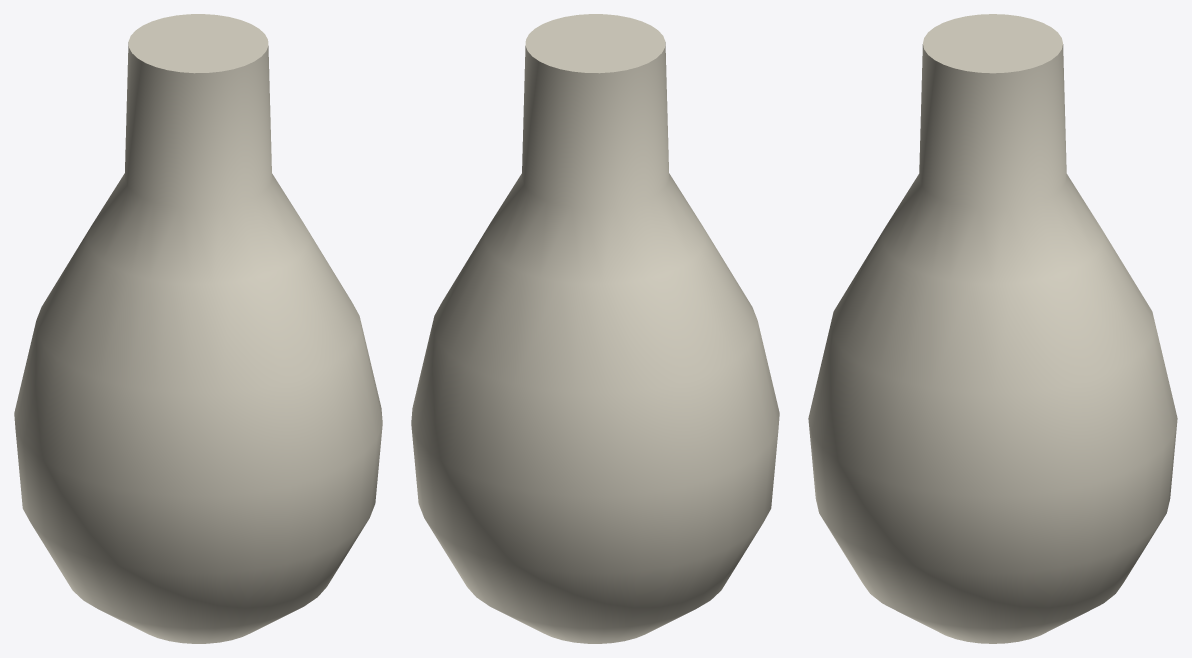
Rendered from lamp_bulb.glb.
3 views of the same model, side by side, from view 1: azimuth 30°, elevation 25°; view 2: azimuth 150°, elevation 25°; view 3: azimuth 270°, elevation 25° (orthographic).
Visible parts, largest first — view 1: lamp_bulb; view 2: lamp_bulb; view 3: lamp_bulb.
Boxes of the visible parts, x1,y1,x2,y2 form: lamp_bulb: (14,14,382,643); lamp_bulb: (411,14,779,643); lamp_bulb: (808,14,1177,643).
Bounding box in the file's own units: 0.1 × 0.175 × 0.1.
